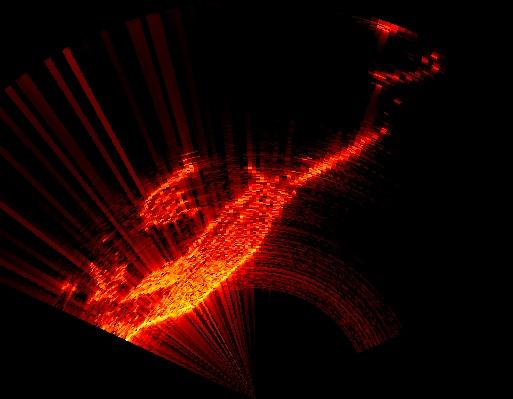shipwreck: (84, 130, 387, 342), (139, 164, 199, 227)
